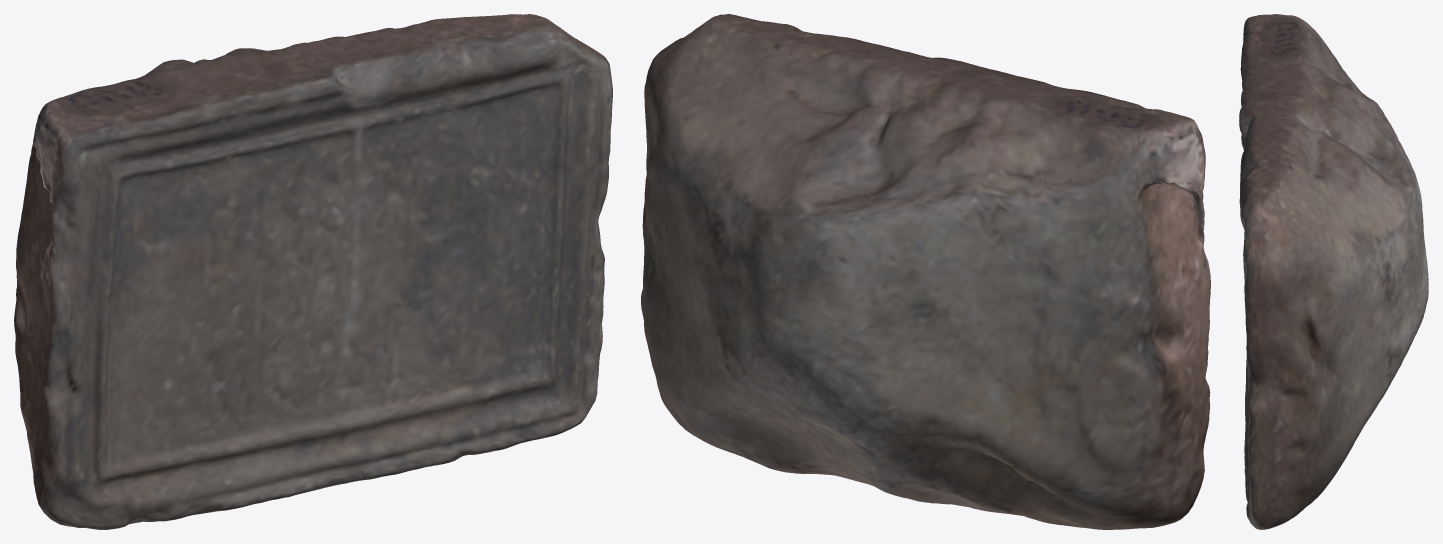
The model's file is DMA_6_1958_second_century_AD_roman_altar_mesh.fbx.
The picture shows the model from 3 angles, left to right: view 1: azimuth 30°, elevation 25°; view 2: azimuth 150°, elevation 25°; view 3: azimuth 270°, elevation 25°; orthographic projection. The views are drawn at different scales.
Parts seen in each view (by area): view 1: Model1; view 2: Model1; view 3: Model1.
Boxes of the visible parts, left/top/right/bottom form: Model1: left=14, top=14, right=612, bottom=529; Model1: left=641, top=14, right=1210, bottom=529; Model1: left=1239, top=14, right=1428, bottom=529.
Bounding box in the file's own units: 27553 × 20240 × 10471.
